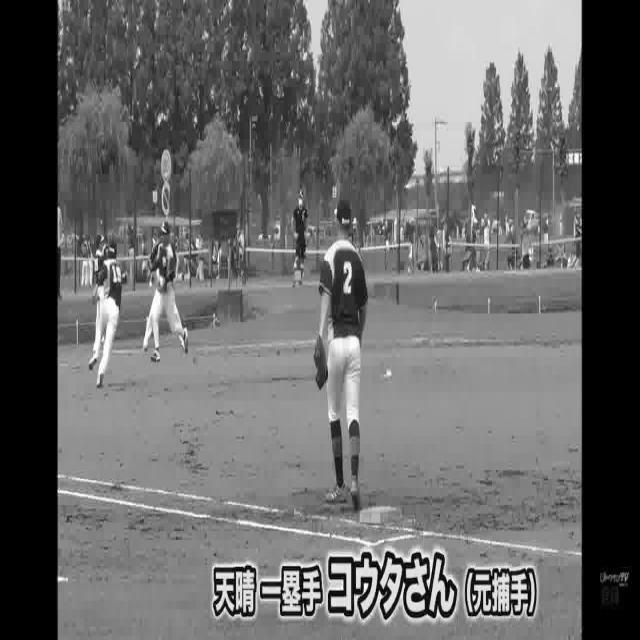base: (358, 499, 404, 522)
baseball_glove: (312, 326, 330, 395), (88, 292, 100, 305)
shoe: (349, 470, 367, 511), (325, 478, 346, 513), (88, 346, 100, 376), (96, 369, 104, 391)
